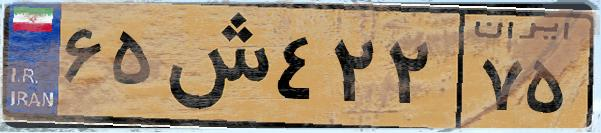2: (385, 28, 445, 110), (330, 28, 385, 110)
4: (270, 28, 330, 110)
5: (525, 38, 570, 115), (110, 28, 158, 98)
6: (57, 26, 110, 100)
7: (475, 38, 525, 113)
ش: (158, 12, 270, 120)
